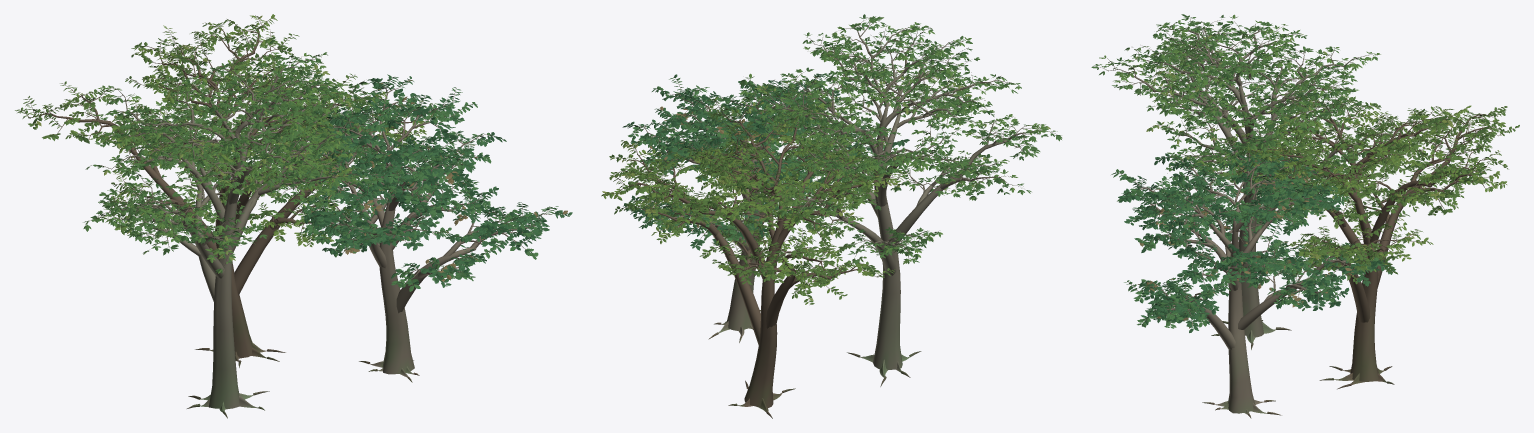
Rendered from trees.glb.
3 renders of one model, left to right at view 1: azimuth 30°, elevation 25°; view 2: azimuth 150°, elevation 25°; view 3: azimuth 270°, elevation 25°, orthographic. The views are drawn at different scales.
Parts seen in each view (by area): view 1: 01 | Upright canopy, 02 | Rounded canopy, 03 | Spreading canopy; view 2: 01 | Upright canopy, 03 | Spreading canopy, 02 | Rounded canopy; view 3: 02 | Rounded canopy, 03 | Spreading canopy, 01 | Upright canopy.
Part boxes in pixels (bbox=[...]): 01 | Upright canopy: bbox=[83, 40, 380, 418]; 02 | Rounded canopy: bbox=[274, 74, 572, 382]; 03 | Spreading canopy: bbox=[15, 14, 437, 367]; 01 | Upright canopy: bbox=[740, 14, 1062, 386]; 03 | Spreading canopy: bbox=[601, 96, 907, 418]; 02 | Rounded canopy: bbox=[622, 72, 909, 342]; 02 | Rounded canopy: bbox=[1111, 136, 1395, 418]; 03 | Spreading canopy: bbox=[1198, 85, 1519, 389]; 01 | Upright canopy: bbox=[1091, 14, 1423, 349].
Bounding box in the file's own units: 27.11 × 20.59 × 24.8.
